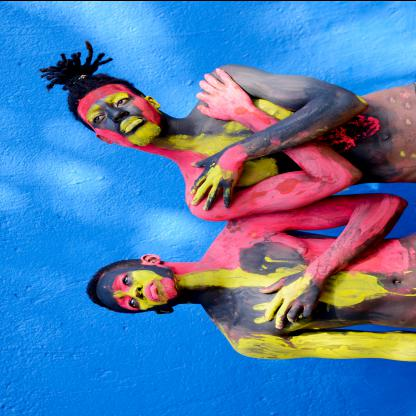Eye: (90, 109, 106, 124), (120, 273, 132, 287), (115, 96, 130, 107), (128, 296, 140, 308)
Mouth: (120, 113, 144, 134), (145, 280, 161, 301)
Nose: (106, 106, 130, 122), (128, 286, 145, 298)
